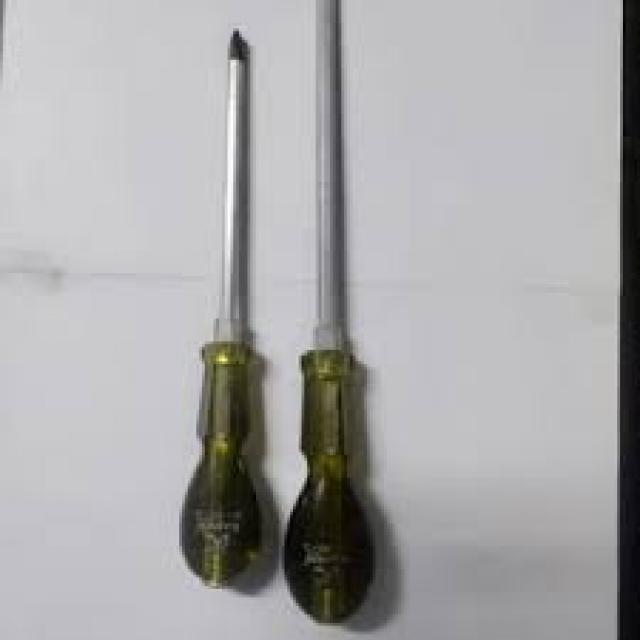screwdriver: (182, 22, 268, 594)
